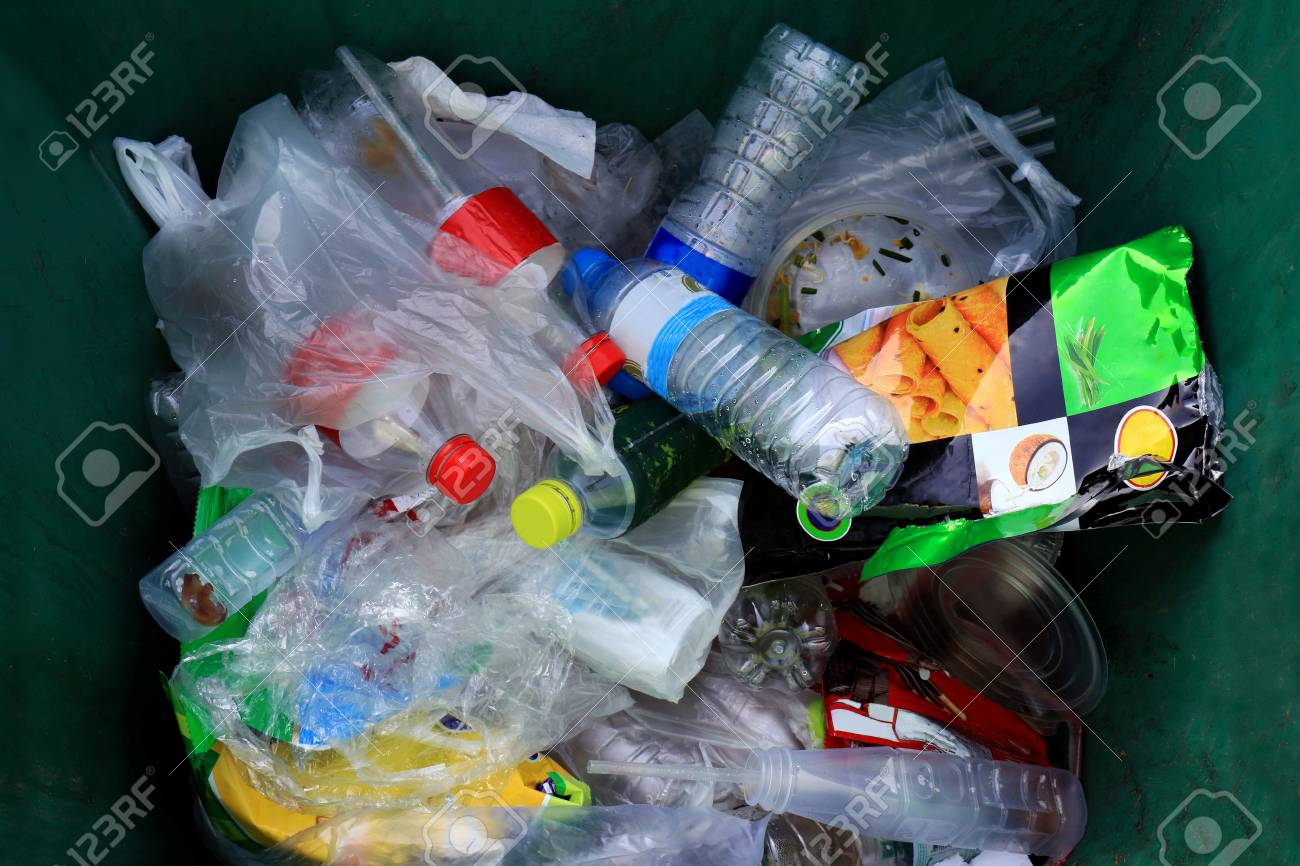plastic_bottle: (528, 123, 1008, 599)
